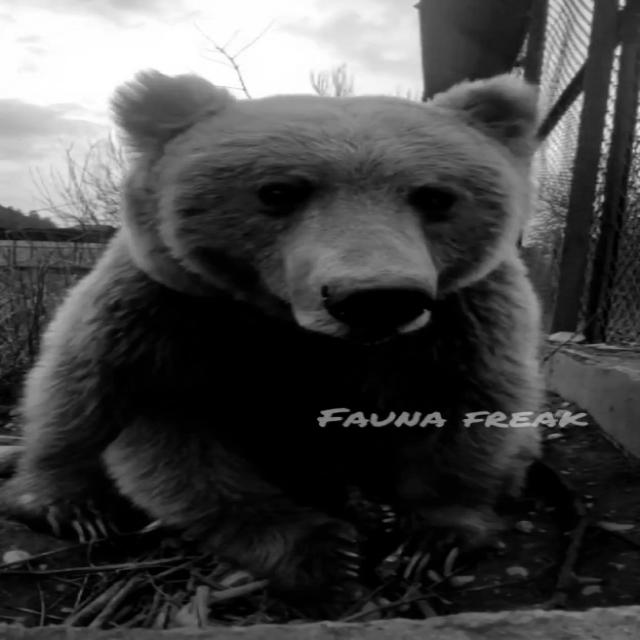Bear: (1, 67, 551, 607)
